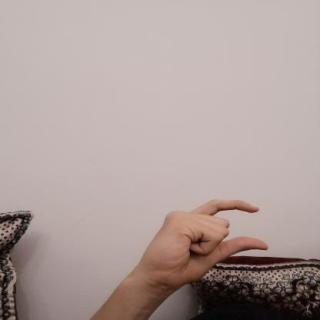DELL: (135, 193, 274, 292)
